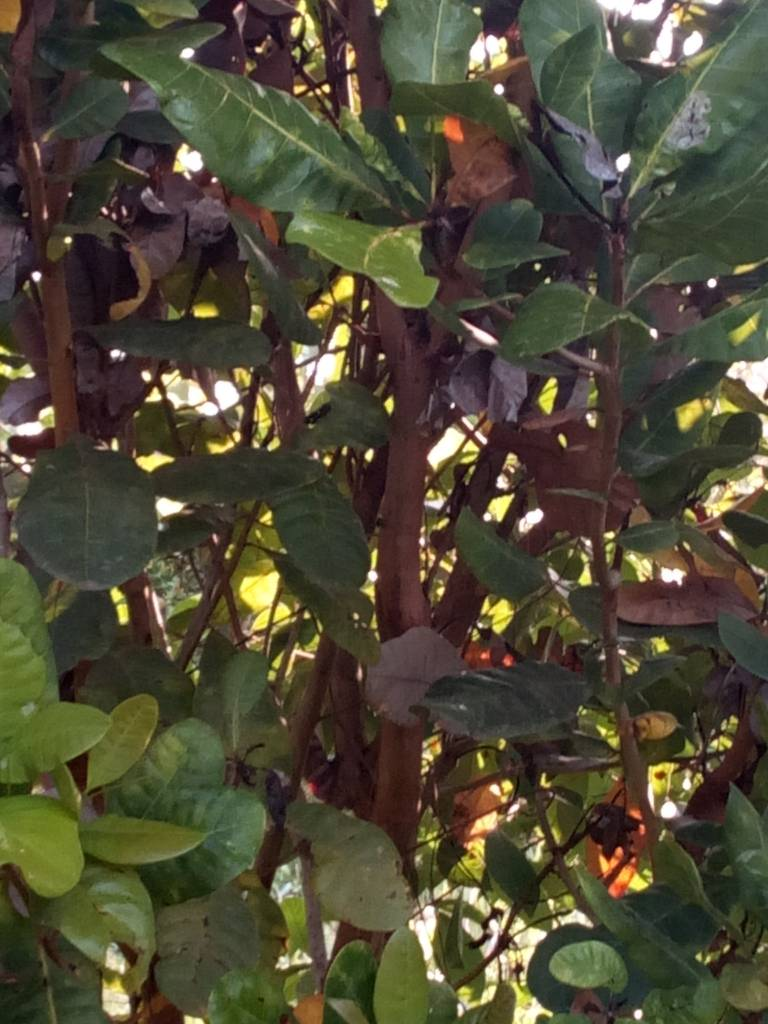Dessèchement des bourgeons: (501, 795, 643, 936)
